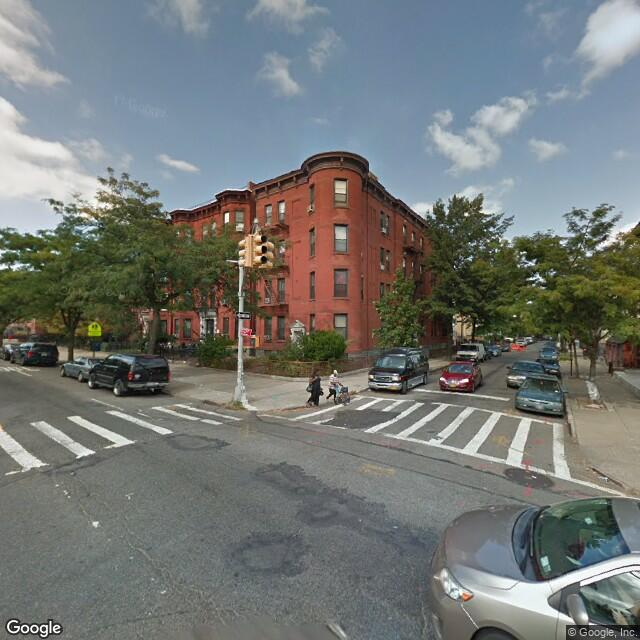litter: (588, 470, 609, 486)
